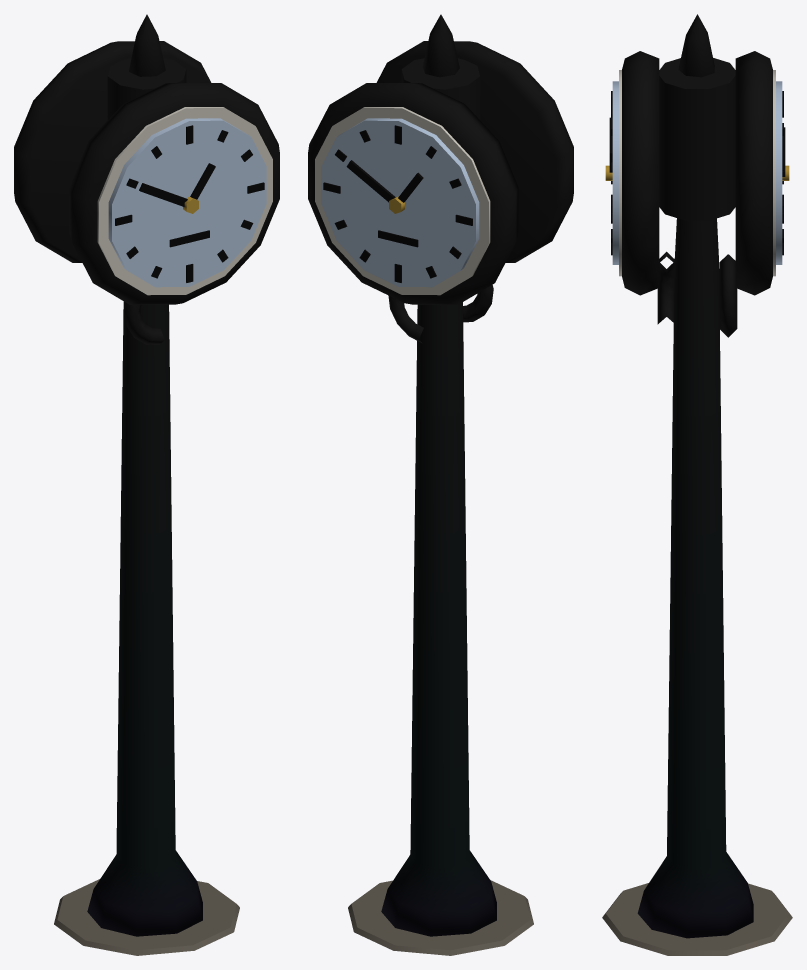
File: station-clock.glb
3 views of the same model, side by side, from view 1: azimuth 30°, elevation 25°; view 2: azimuth 150°, elevation 25°; view 3: azimuth 270°, elevation 25° (orthographic).
Parts seen in each view (by area): view 1: station_clock; view 2: station_clock; view 3: station_clock.
Part boxes in pixels (bbox=[...]): station_clock: bbox=[14, 14, 279, 955]; station_clock: bbox=[308, 14, 573, 955]; station_clock: bbox=[602, 14, 792, 955].
Bounding box in the file's own units: 0.6239 × 2.61 × 0.4992.
